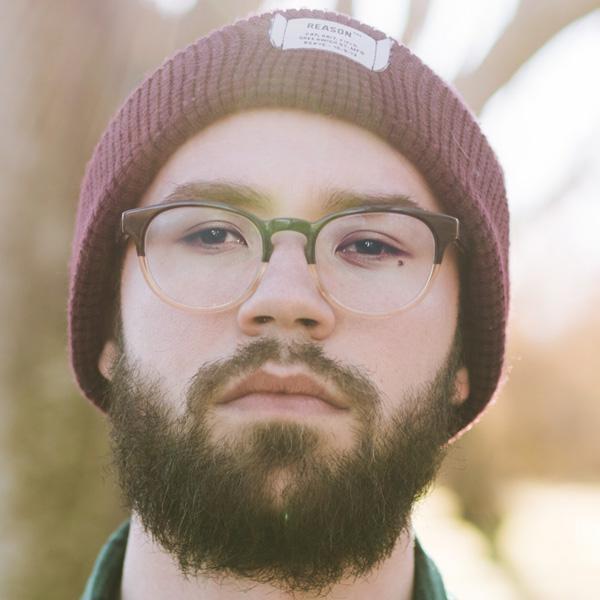Eyes: (329, 216, 410, 280), (174, 207, 252, 268)
